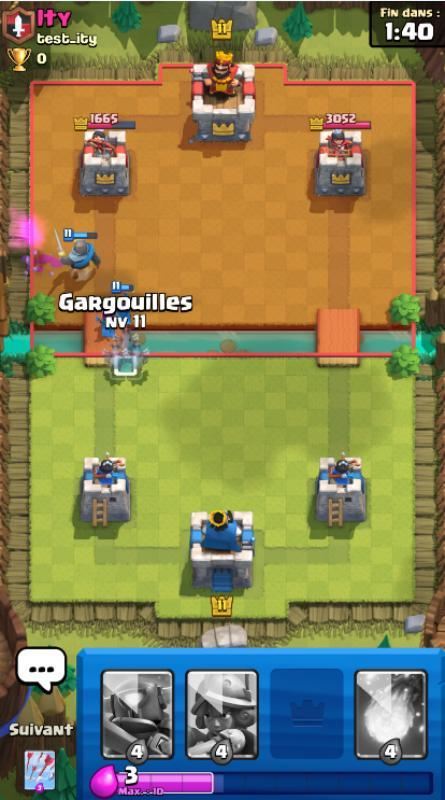archere: (110, 280, 134, 325), (95, 309, 116, 338)
chevalier: (54, 227, 101, 280)
gargouille: (123, 343, 149, 371), (103, 343, 128, 371), (113, 326, 139, 351)
